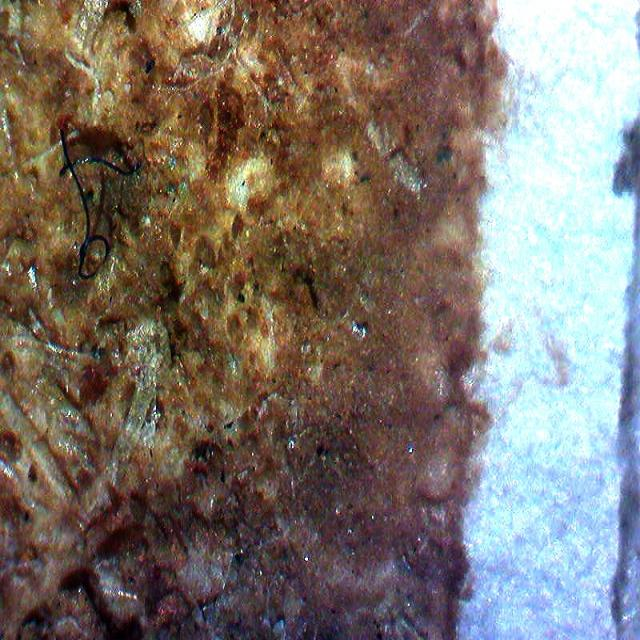microplastic: (60, 132, 111, 282), (60, 157, 142, 176)
